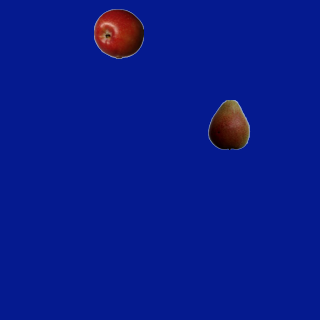Apple Braeburn: (93, 8, 143, 58)
Pear Forelle: (203, 99, 253, 149)
